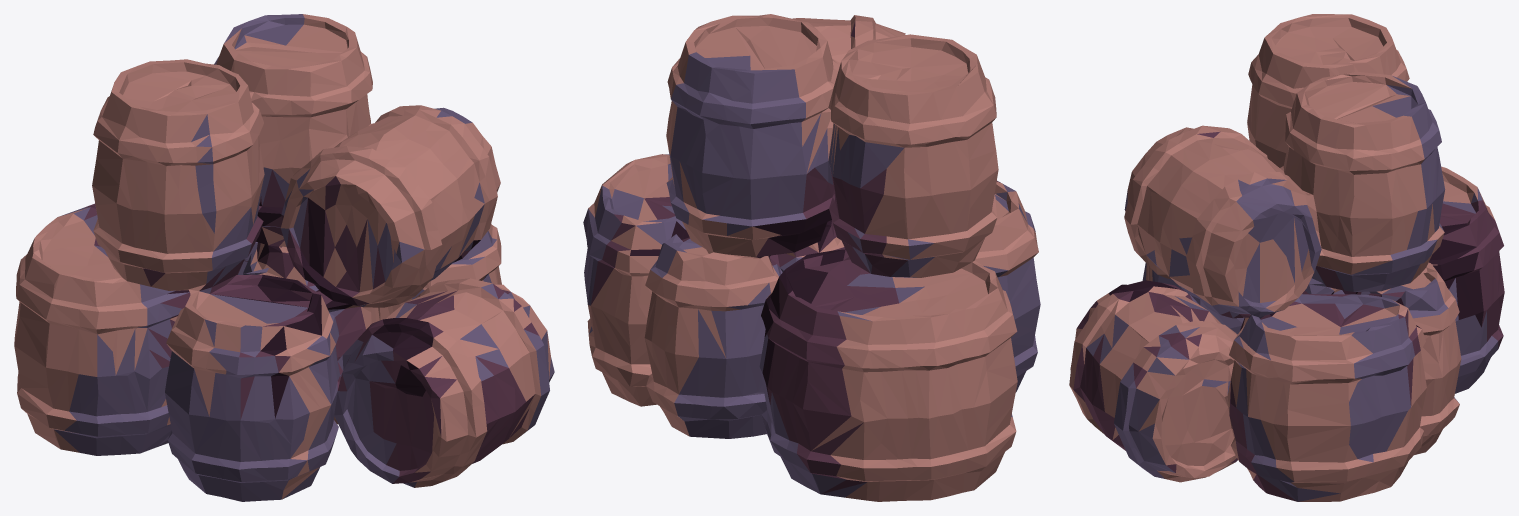
Rendered from barrels.glb.
3 renders of one model, left to right at view 1: azimuth 30°, elevation 25°; view 2: azimuth 150°, elevation 25°; view 3: azimuth 270°, elevation 25°, orthographic. The views are drawn at different scales.
Visible parts, largest first — view 1: geometry_0; view 2: geometry_0; view 3: geometry_0.
Boxes of the visible parts, left/top/right/bottom form: geometry_0: left=14, top=14, right=554, bottom=501; geometry_0: left=583, top=14, right=1040, bottom=501; geometry_0: left=1069, top=14, right=1504, bottom=501.
Bounding box in the file's own units: 1.99 × 1.62 × 1.88.
